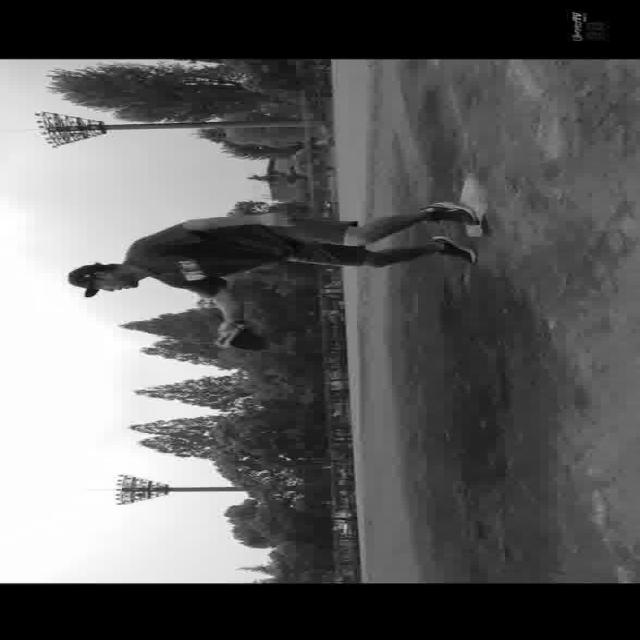base: (460, 173, 492, 236)
baseball_glove: (215, 321, 268, 352)
shoe: (431, 233, 478, 265), (422, 200, 476, 224)
